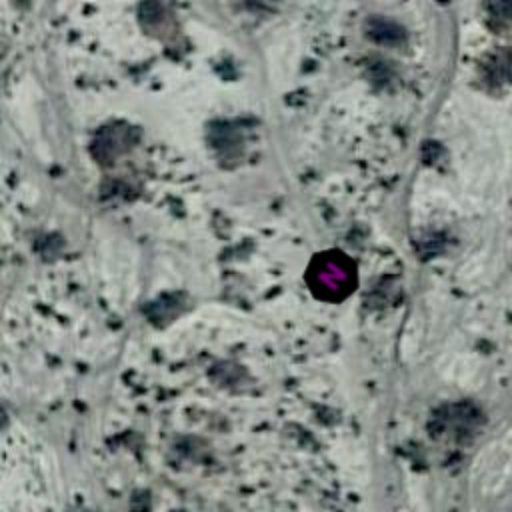heptagon: (288, 232, 376, 320)
